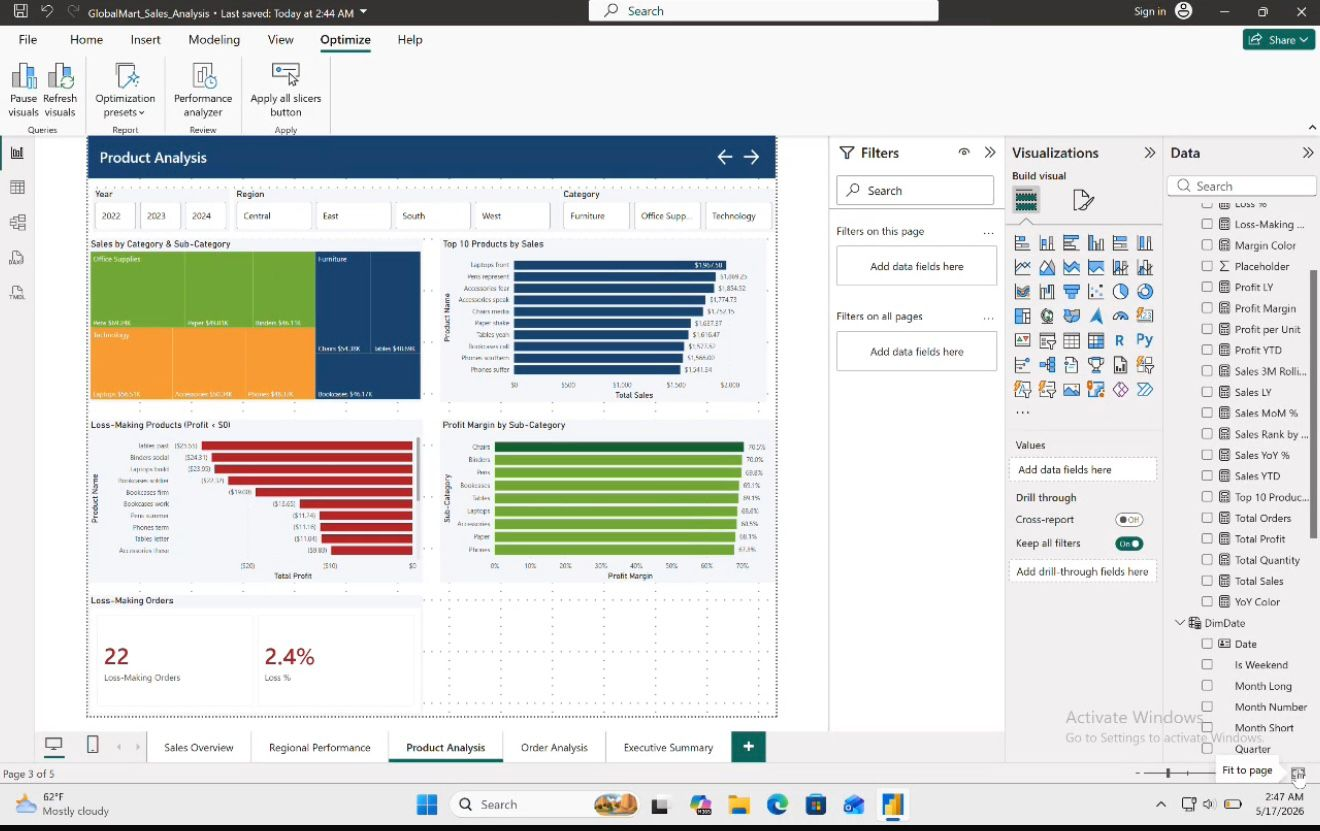

Layout of this report page (visuals, bound fields, positions):
{"tool":"powerbi","page":{"name":"Product Analysis","canvas":[1280,1080],"ordinal":2},"visuals":[{"type":"group","id":"g1","title":"Group 1","box":[0,0,1280,80],"z":0},{"type":"shape","box":[0,0,1280,80],"z":0,"group":"g1"},{"type":"advancedSlicerVisual","fields":{"Values":["Sales.Region"]},"box":[272.3,99.3,608,80],"z":1},{"type":"advancedSlicerVisual","fields":{"Values":["DimDate.Year"]},"box":[8.3,99.3,256,80],"z":2},{"type":"advancedSlicerVisual","fields":{"Values":["Sales.Category"]},"box":[880,99.3,400,80],"z":3},{"type":"treemap","title":"Sales by Category & Sub-Category","fields":{"Group":["Sales.Category"],"Details":["Sales.Sub-Category"],"Values":["_Measures.Total Sales"]},"box":[0,192,624,304],"z":4},{"type":"clusteredBarChart","title":"Top 10 Products by Sales","fields":{"Category":["Sales.Product Name"],"Y":["_Measures.Total Sales"]},"box":[656,192,608,304],"z":5},{"type":"clusteredBarChart","title":"Loss-Making Products (Profit < $0)","fields":{"Category":["Sales.Product Name"],"Y":["_Measures.Total Profit"]},"box":[0,528,624,304],"z":6},{"type":"clusteredBarChart","title":"Profit Margin by Sub-Category","fields":{"Category":["Sales.Sub-Category"],"Y":["_Measures.Profit Margin"]},"box":[656,528,624,304],"z":7},{"type":"cardVisual","title":"Loss-Making Orders","fields":{"Data":["_Measures.Loss-Making Orders","_Measures.Loss %"]},"box":[0,856,624,224],"z":8},{"type":"actionButton","box":[1216,16,48,48],"z":9},{"type":"actionButton","box":[1168,16,32,48],"z":10},{"type":"textbox","box":[16,16,288,48],"z":1000,"group":"g1"}]}

Visuals, with their boxes on the page's 1280x1080 design canvas (x1, y1, x2, y2). These are canvas units, not pixel positions in the 1320x831 screenshot, which may show the page scaled, cropped or inside an application window:
"Group 1" group: (0,0,1280,80)
shape: (0,0,1280,80)
advancedSlicerVisual - Sales.Region: (272,99,880,179)
advancedSlicerVisual - DimDate.Year: (8,99,264,179)
advancedSlicerVisual - Sales.Category: (880,99,1280,179)
"Sales by Category & Sub-Category" treemap: (0,192,624,496)
"Top 10 Products by Sales" clusteredBarChart: (656,192,1264,496)
"Loss-Making Products (Profit < $0)" clusteredBarChart: (0,528,624,832)
"Profit Margin by Sub-Category" clusteredBarChart: (656,528,1280,832)
"Loss-Making Orders" cardVisual: (0,856,624,1080)
actionButton: (1216,16,1264,64)
actionButton: (1168,16,1200,64)
textbox: (16,16,304,64)
